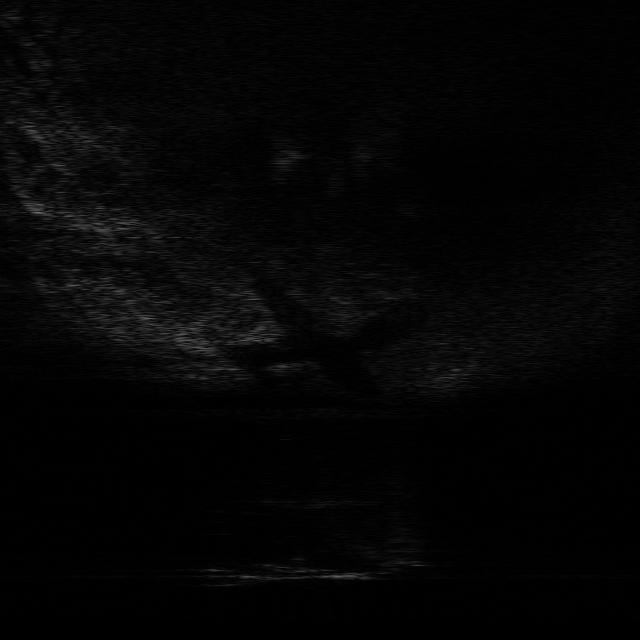plane: (191, 537, 430, 591)
